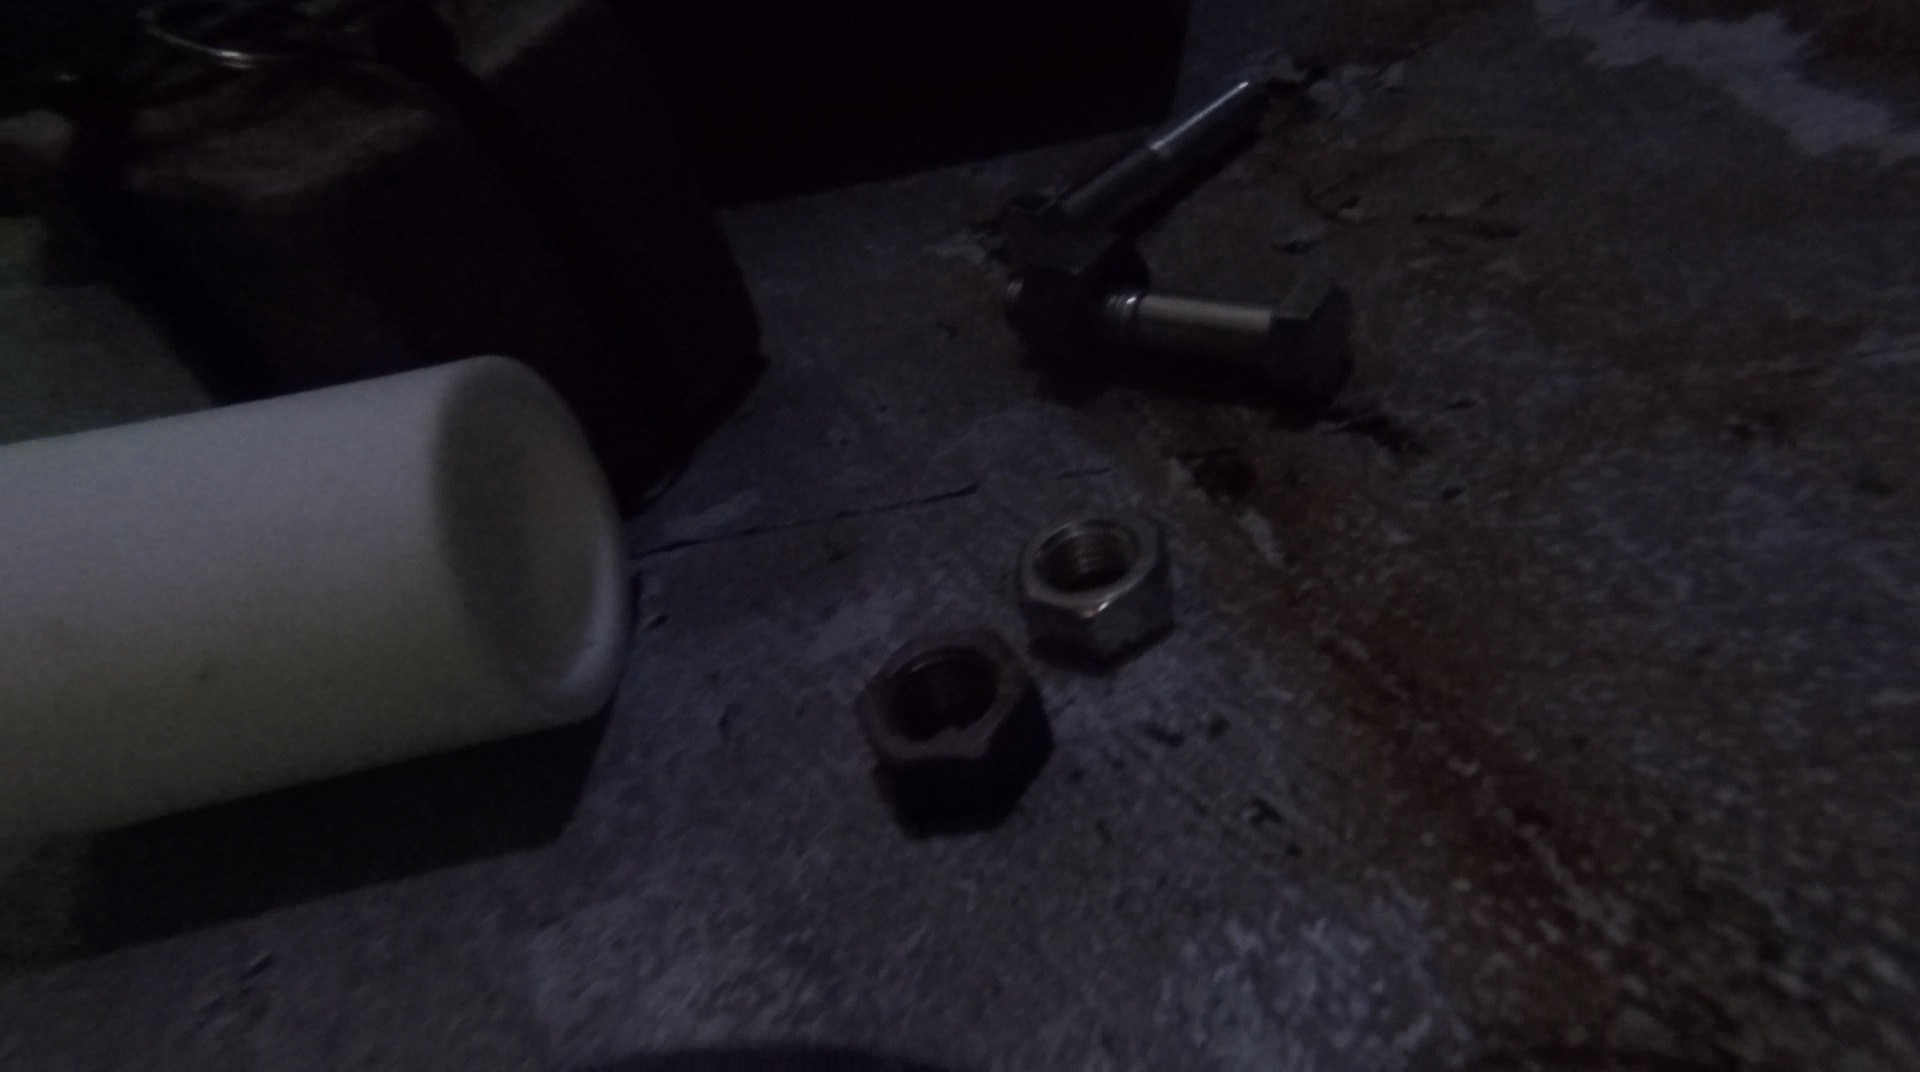bolt: (1001, 272, 1352, 411), (1054, 76, 1258, 231)
led_block: (66, 1, 760, 483)
nut: (853, 628, 1058, 829), (1015, 508, 1180, 665), (1021, 227, 1149, 378)
pipe: (1, 349, 637, 847)
